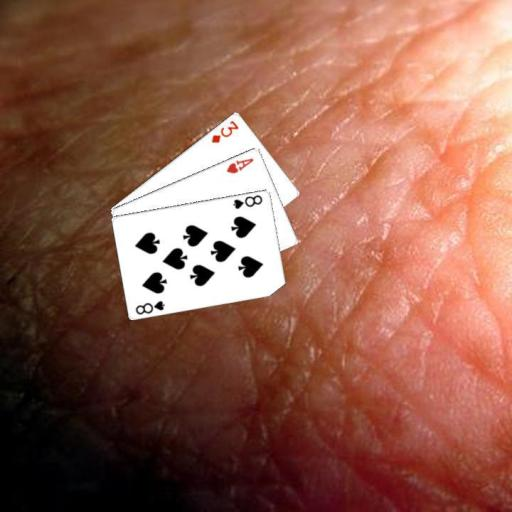3D: (209, 117, 241, 144)
8S: (230, 191, 264, 210), (133, 297, 167, 316)
AH: (224, 154, 256, 175)
